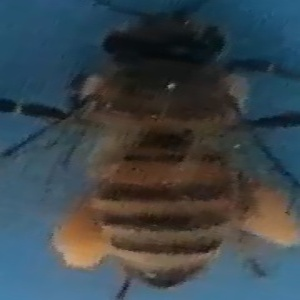bee: (12, 4, 300, 293)
